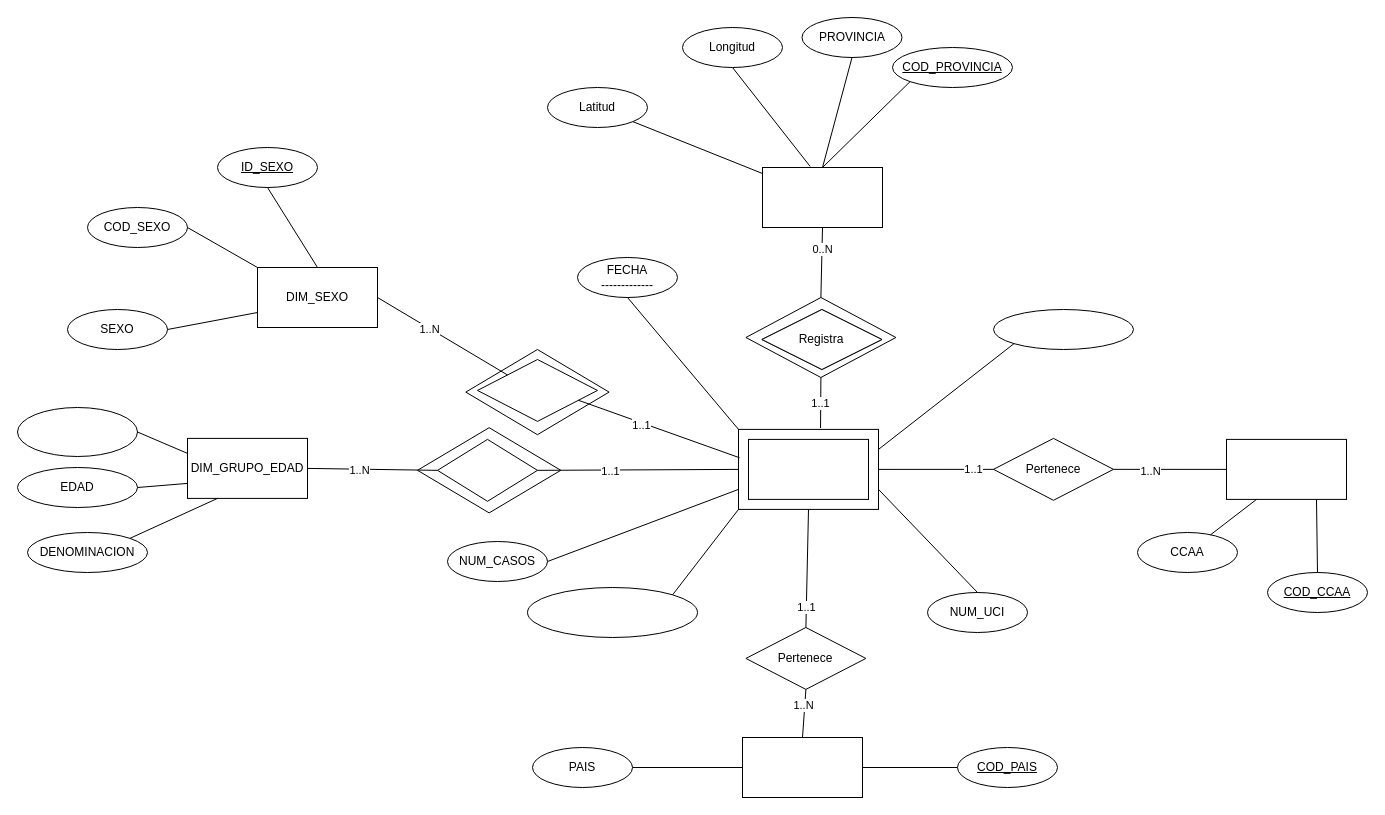
Some shapes in this 1385 by 815 pixel diagram are drawn without their labels. The centre of each missing label's shape, as x and y in pixels:
"Almacena" belongs at point 487,469.
"DIM_CCAA" belongs at point 1286,468.
"DIM_PAISES" belongs at point 802,767.
"DIM_PROVINCIAS" belongs at point 822,197.
"FACT_COVID_P" belongs at point 808,468.
"ID_GRUPO_EDAD" belongs at point 77,431.
"NUM_DEFUNCIONES" belongs at point 1063,329.
"NUM_HOSPITALIZACIONES" belongs at point 612,612.
"Tiene" belongs at point 537,389.
